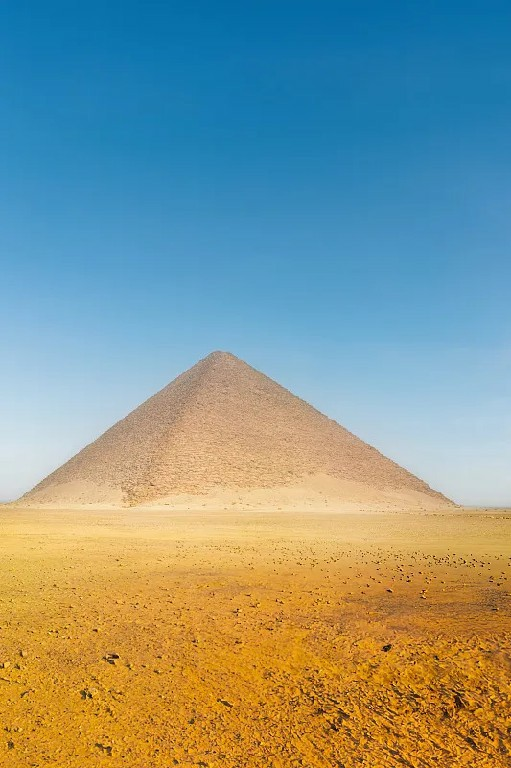Pyramid: (14, 353, 460, 509)
